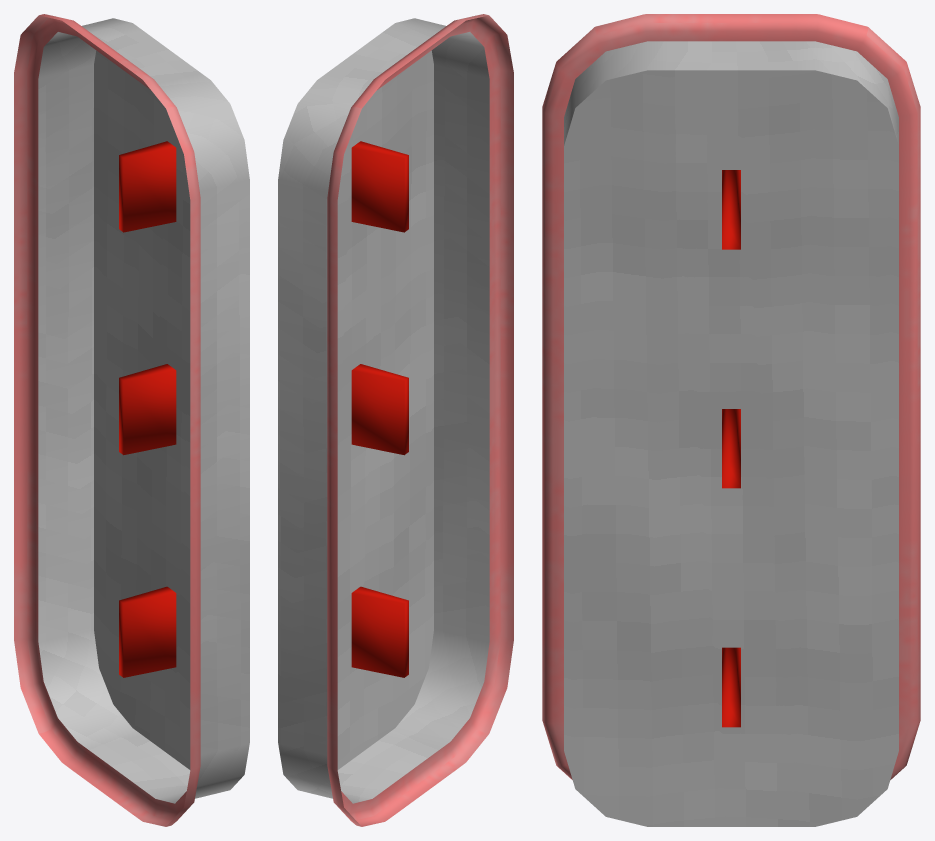
File: emitter.obj
3 views of the same model, side by side, from view 1: azimuth 30°, elevation 25°; view 2: azimuth 150°, elevation 25°; view 3: azimuth 270°, elevation 25° (orthographic). The views are drawn at different scales.
Visible parts, largest first — view 1: Cube; view 2: Cube; view 3: Cube.
Part boxes in pixels (x1,y1,x2,y2): Cube: (14, 14, 249, 826); Cube: (278, 14, 513, 826); Cube: (542, 14, 920, 826).
Bounding box in the file's own units: 0.0981 × 1 × 0.4305.
